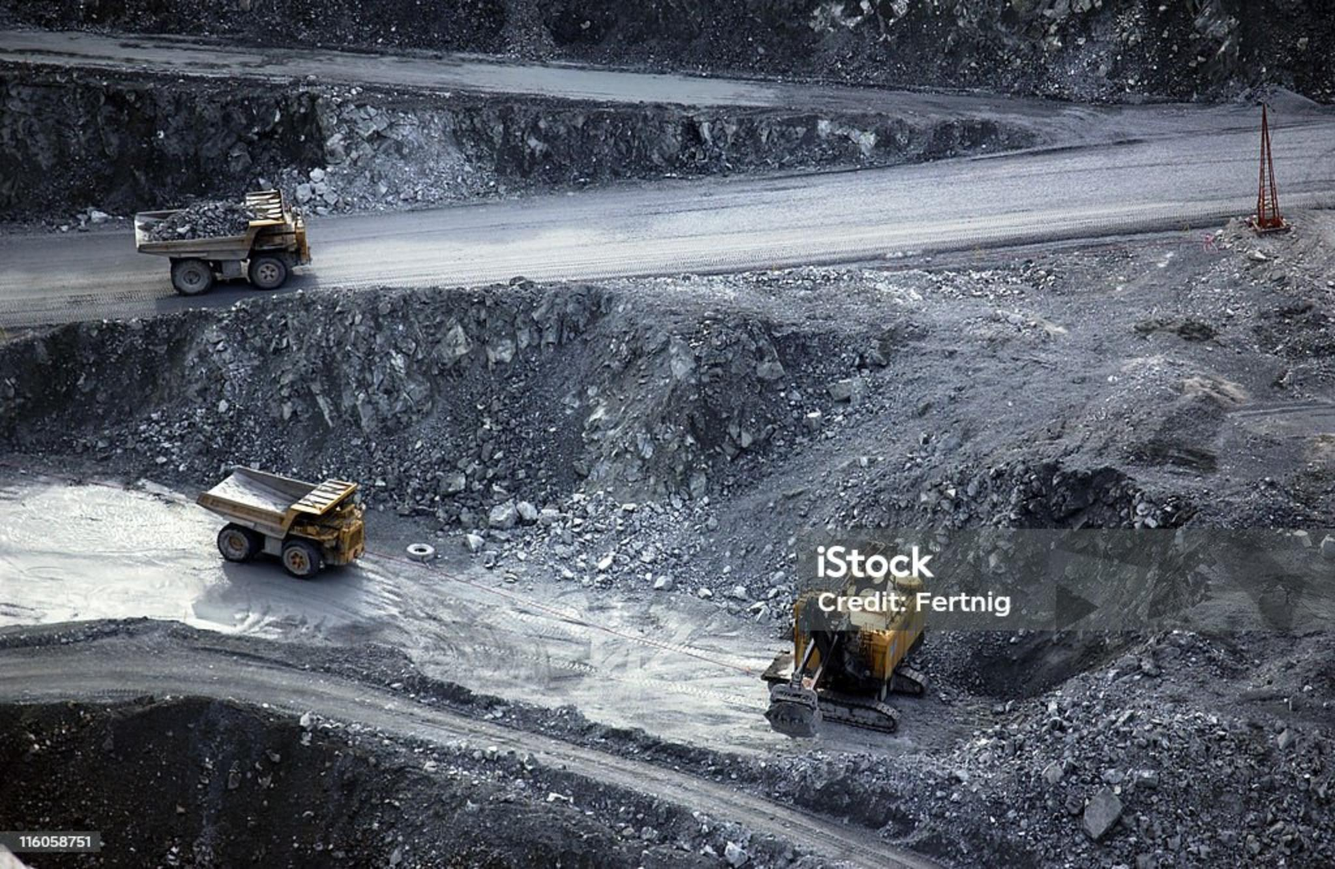benches: (0, 456, 928, 868), (0, 31, 1258, 289), (0, 228, 269, 341), (1274, 94, 1334, 215)
excavator: (762, 521, 931, 730)
truck: (132, 177, 318, 296), (214, 450, 356, 597)
